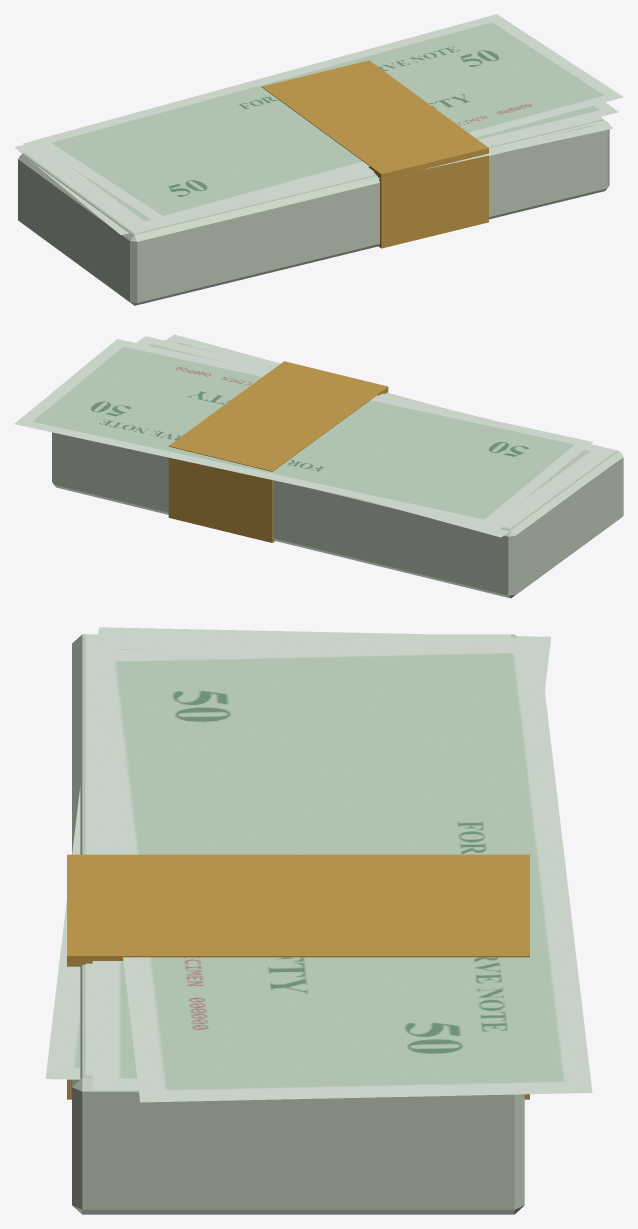
The model's file is cash_bundle.glb.
3 renders of one model, top to bottom at view 1: azimuth 30°, elevation 25°; view 2: azimuth 150°, elevation 25°; view 3: azimuth 270°, elevation 25°, orthographic. The views are drawn at different scales.
Visible parts, largest first — view 1: cash_bundle; view 2: cash_bundle; view 3: cash_bundle.
Boxes of the visible parts, x1=… form: cash_bundle: x1=14, y1=14, x2=623, y2=305; cash_bundle: x1=14, y1=334, x2=623, y2=598; cash_bundle: x1=45, y1=627, x2=592, y2=1214.
Bounding box in the file's own units: 0.1677 × 0.0235 × 0.08.
Materials: 3 (1 with a texture image).
